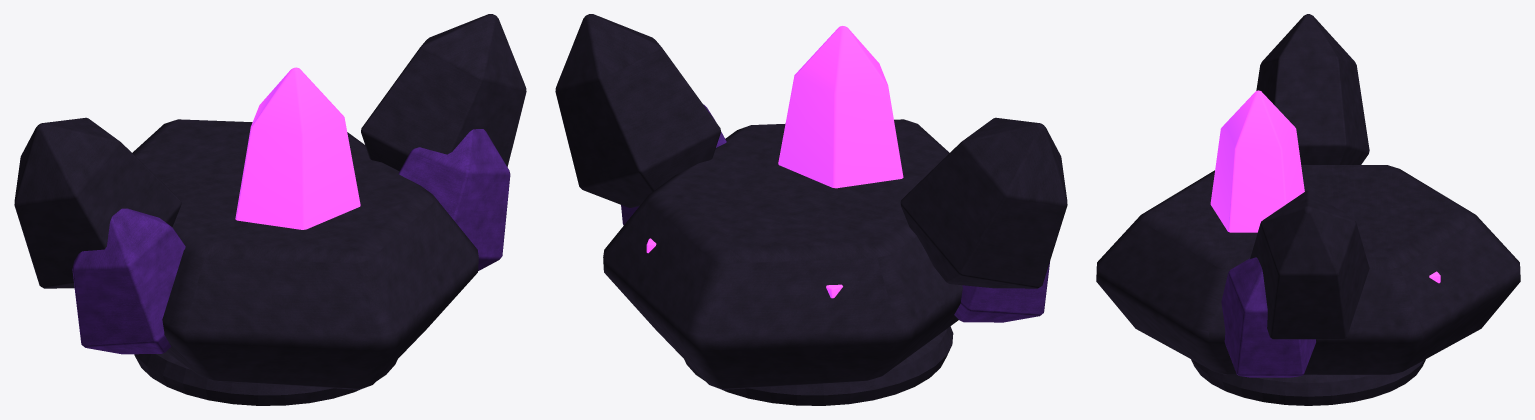
The model's file is conclave_ombre.gltf.
3 renders of one model, left to right at view 1: azimuth 30°, elevation 25°; view 2: azimuth 150°, elevation 25°; view 3: azimuth 270°, elevation 25°, orthographic. The views are drawn at different scales.
Visible parts, largest first — view 1: Body.004_Geometry; view 2: Body.004_Geometry; view 3: Body.004_Geometry.
Boxes of the visible parts, left/top/right/bottom form: Body.004_Geometry: left=14, top=14, right=526, bottom=405; Body.004_Geometry: left=555, top=14, right=1067, bottom=405; Body.004_Geometry: left=1096, top=14, right=1520, bottom=405.
Bounding box in the file's own units: 2.11 × 1.25 × 1.78.
3 materials, 2 textured.
